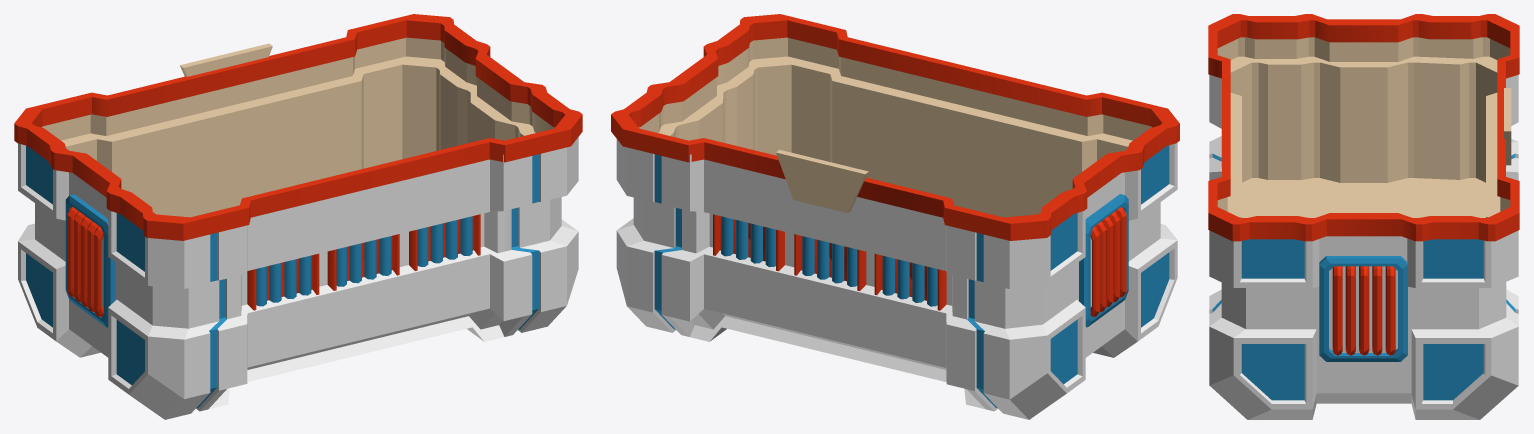
File: Props_ChestBottom.003.fbx
3 renders of one model, left to right at view 1: azimuth 30°, elevation 25°; view 2: azimuth 150°, elevation 25°; view 3: azimuth 270°, elevation 25°, orthographic.
Visible parts, largest first — view 1: Props_ChestBottom.003; view 2: Props_ChestBottom.003; view 3: Props_ChestBottom.003.
Part boxes in pixels (box(x1,y1,x2,y2)): Props_ChestBottom.003: box(14, 14, 582, 419); Props_ChestBottom.003: box(611, 14, 1179, 419); Props_ChestBottom.003: box(1208, 14, 1519, 419).
Size of the model in its own units: 1.29 by 0.6239 by 0.8052.
